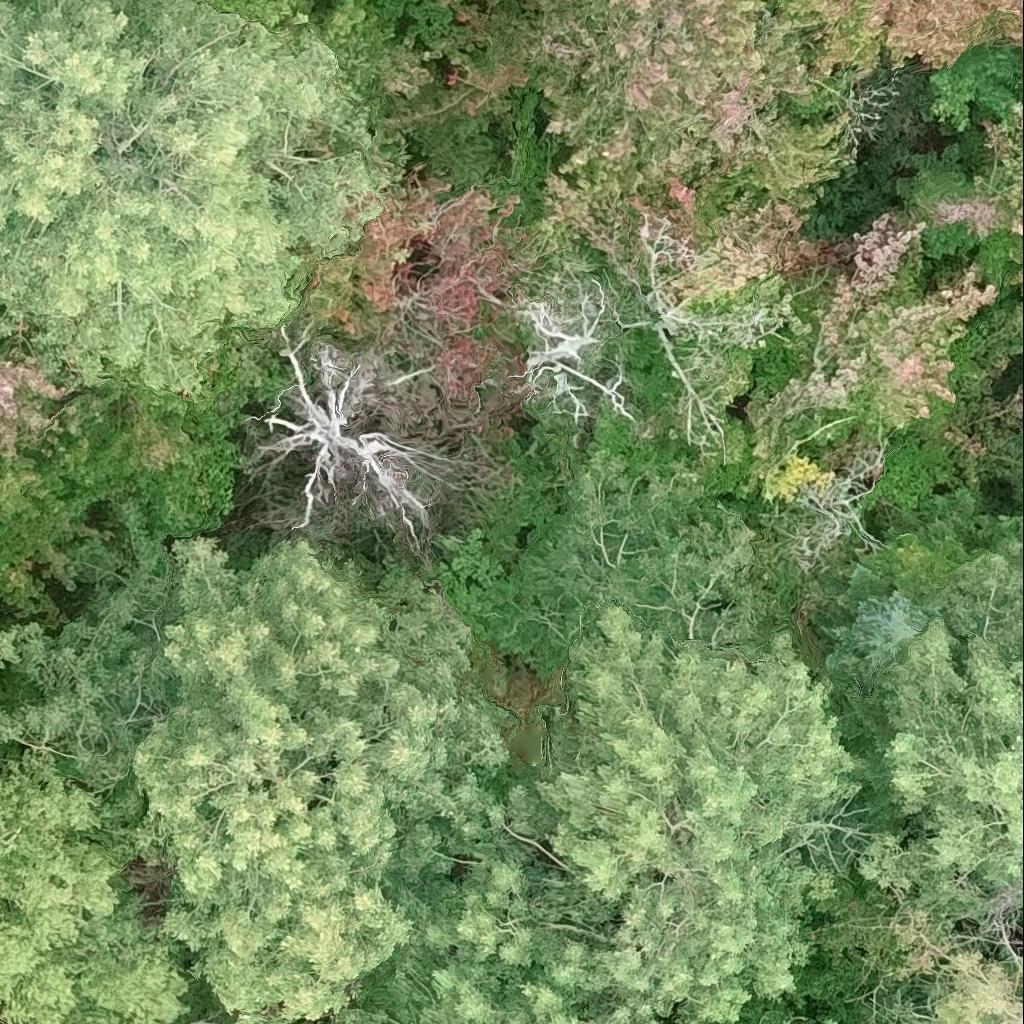crown: (11, 500, 512, 1023), (459, 450, 864, 1020), (546, 162, 1023, 578), (0, 0, 391, 397), (450, 0, 889, 210), (859, 502, 1023, 937), (286, 163, 555, 418), (0, 753, 197, 1023), (252, 342, 467, 550), (485, 349, 693, 544), (68, 329, 253, 543), (0, 331, 117, 629), (390, 922, 657, 1023), (385, 528, 569, 674), (911, 103, 1023, 296), (516, 273, 634, 417), (866, 917, 1023, 1023), (794, 0, 1001, 73), (168, 963, 237, 1023), (980, 0, 1023, 50), (0, 626, 37, 667), (0, 710, 8, 748), (337, 1017, 384, 1023), (681, 1018, 694, 1023), (827, 1020, 844, 1023), (778, 1022, 794, 1023)
